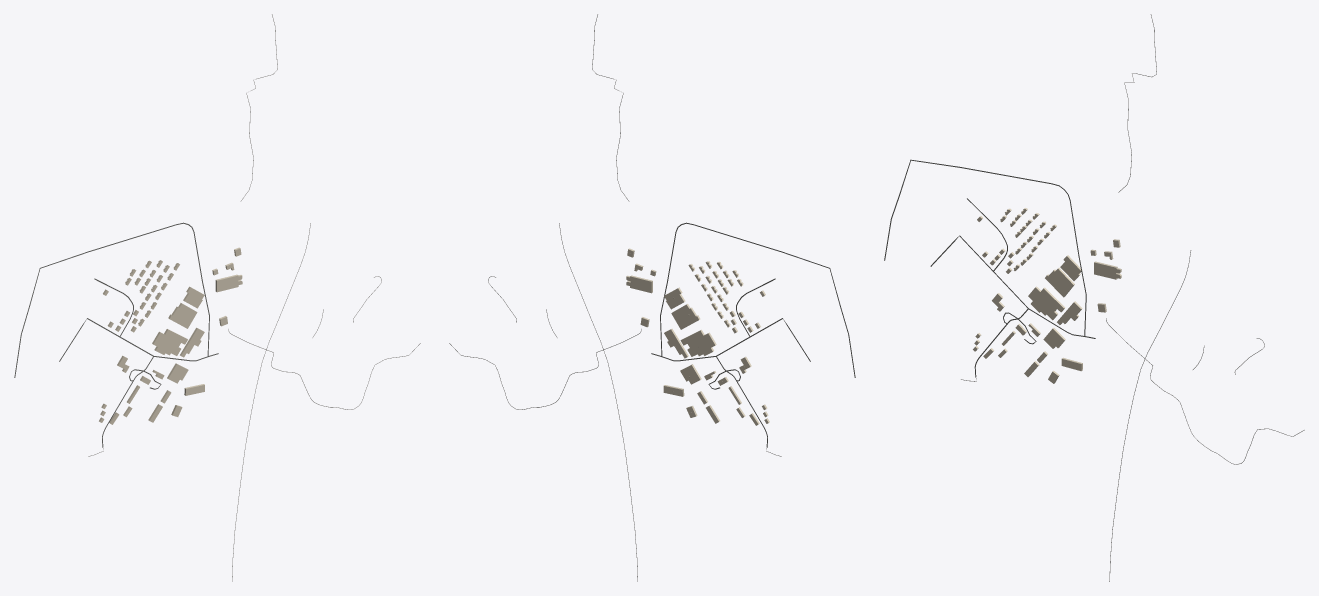
The model's file is historic-palestine-14_30_3555_3249.glb.
3 views of the same model, side by side, from view 1: azimuth 30°, elevation 25°; view 2: azimuth 150°, elevation 25°; view 3: azimuth 330°, elevation 25° (orthographic). The views are drawn at different scales.
Visible parts, largest first — view 1: Road .002, Building_.028; view 2: Building_.028, Road .002; view 3: Building_.028, Road .002.
Part boxes in pixels (bbox=[...]): Road .002: bbox=[14, 222, 209, 377]; Building_.028: bbox=[152, 329, 187, 355]; Building_.028: bbox=[680, 329, 716, 356]; Road .002: bbox=[660, 222, 855, 377]; Building_.028: bbox=[1028, 286, 1065, 320]; Road .002: bbox=[884, 159, 1086, 335].
Size of the model in its own units: 1368 by 1795 by 8.7.
